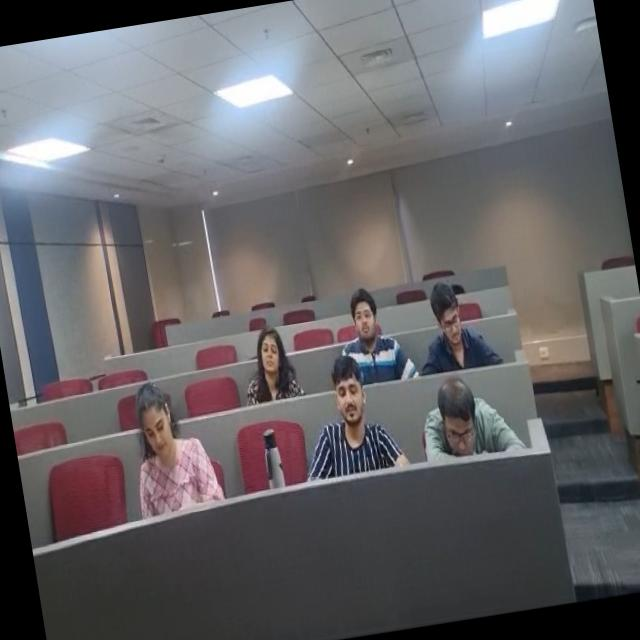non-cheating: (405, 370, 523, 470), (119, 367, 205, 504), (310, 349, 388, 483), (232, 310, 308, 414), (329, 272, 400, 374), (406, 272, 482, 366)
